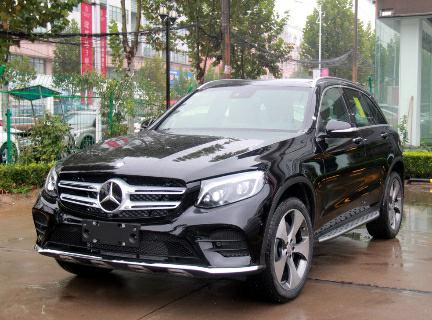奔驰-GLC: (30, 71, 412, 308)
